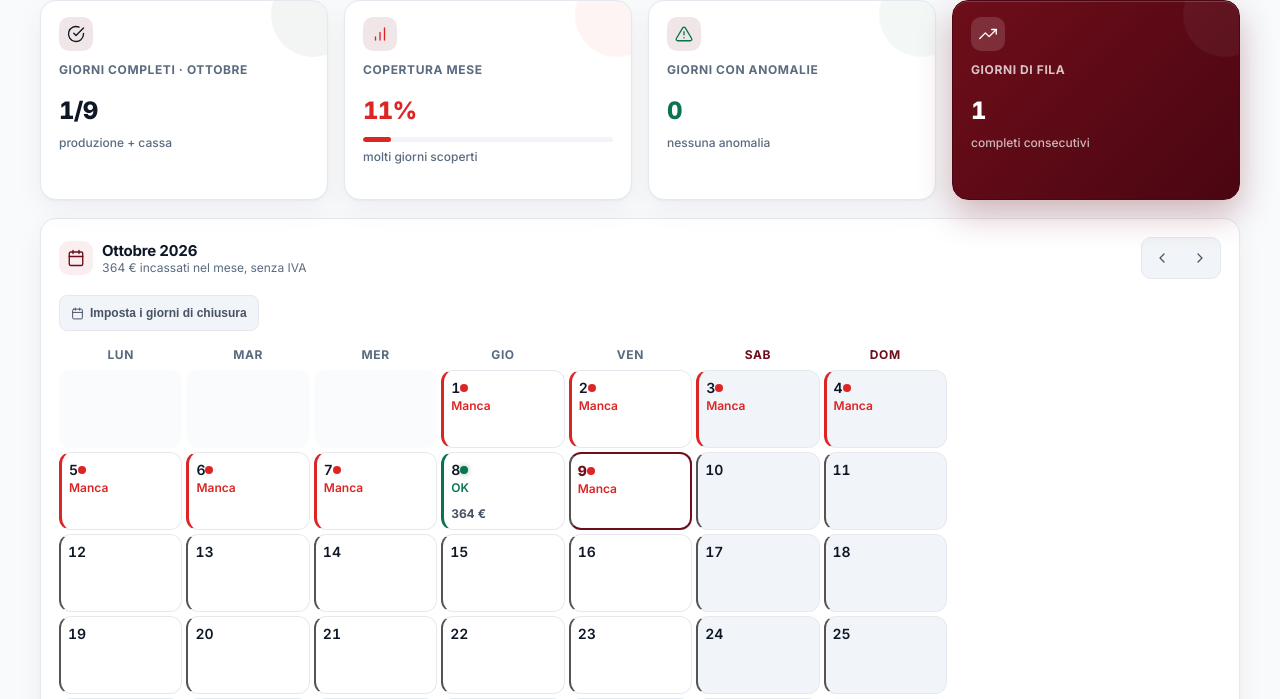
La nota di una giornata › aprendo un giorno si può scrivere una nota
The width and height of the screenshot is (1280, 699).
What coordinates should you click on to do the following:
click the button "8 OK 364 €"
I would click on:
 (503, 491)
Its box is [441, 452, 565, 530].
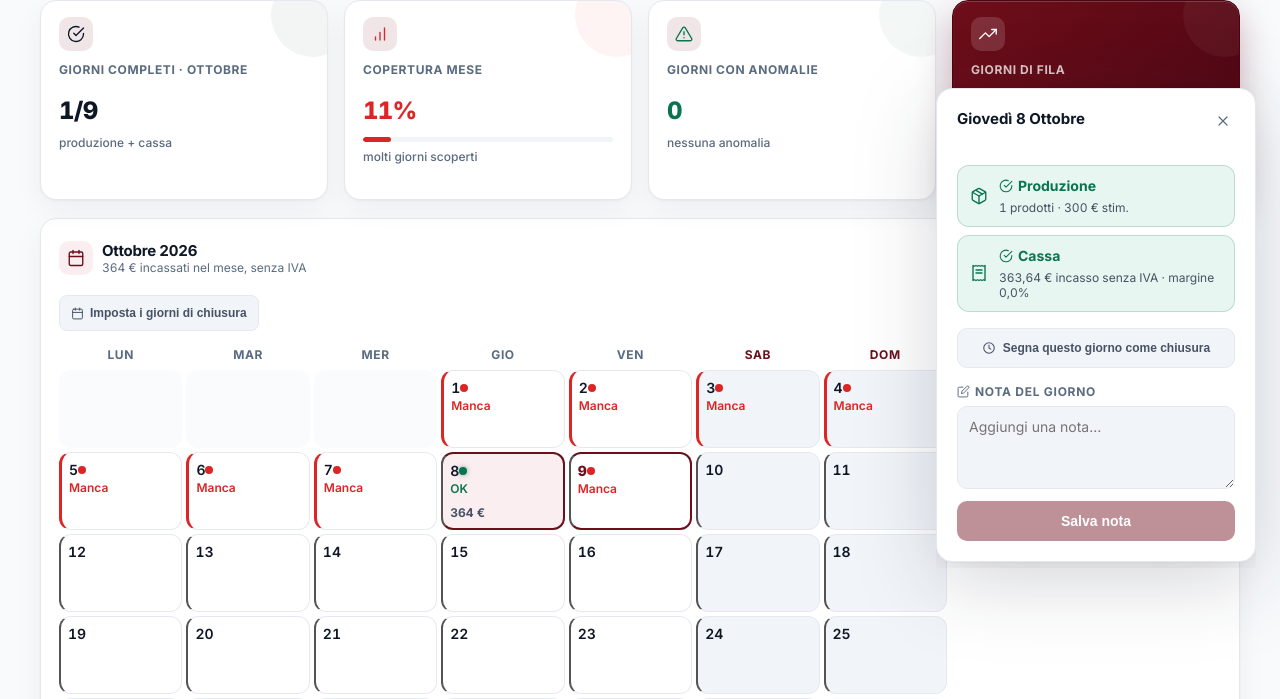
expect the text box with placeholder "Aggiungi una nota…" is shown: met, box [957, 406, 1235, 488]
